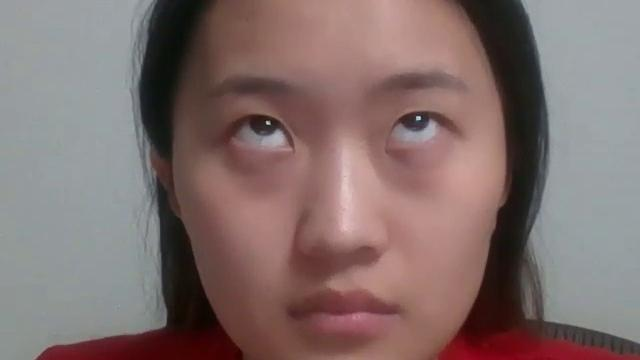eye: (248, 105, 281, 136), (398, 102, 430, 131)
iris: (233, 114, 291, 147), (391, 112, 443, 144)
